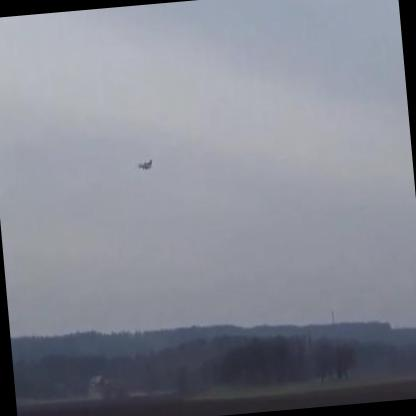plane: (137, 159, 154, 172)
